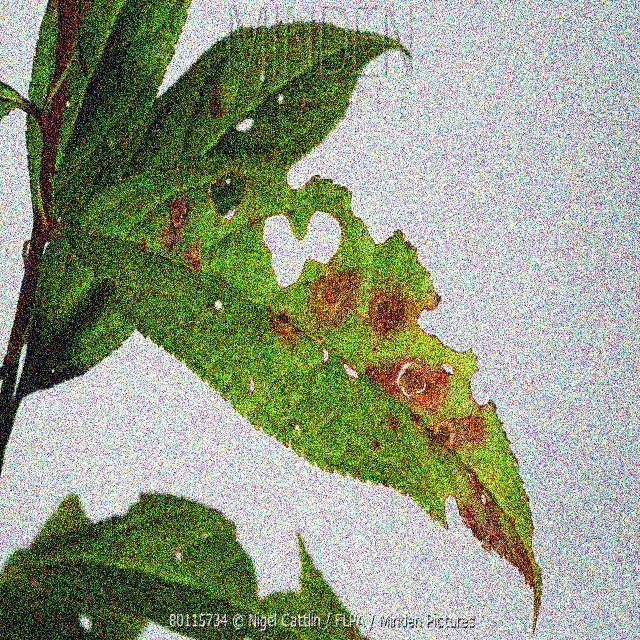shot_hole: (39, 207, 536, 528), (39, 202, 536, 432), (57, 372, 241, 509), (0, 0, 120, 148)
